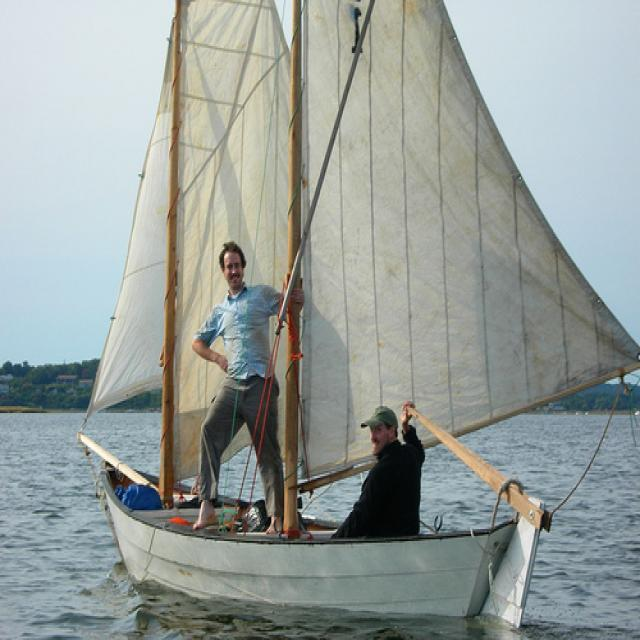Ship: (97, 1, 581, 640)
